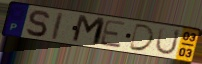D: (127, 22, 156, 52)
E: (98, 19, 129, 49)
I: (51, 11, 64, 41)
M: (70, 13, 108, 48)
S: (25, 9, 51, 38)
U: (153, 26, 182, 56)
